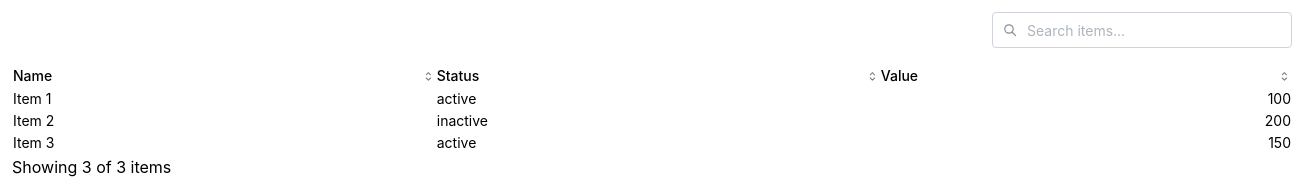
Test: AccessibleTable › implements search functionality with announcements
# Search for "Item 1"
Type "Item 1" into the field labelled "Search items..." at (1142, 30), box [992, 12, 1292, 48]
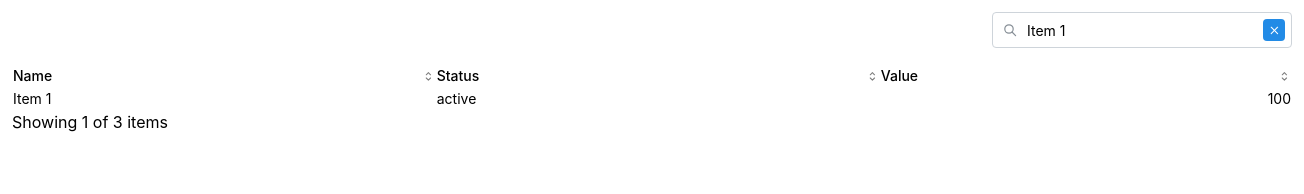
Check: the text "Item 1" is shown, box [13, 90, 52, 107]
Check: the text "Item 2" is gone
Check: the text "Item 3" is gone
# Clear search
Click the button named "Clear search" at (1274, 30), box [1263, 19, 1285, 41]
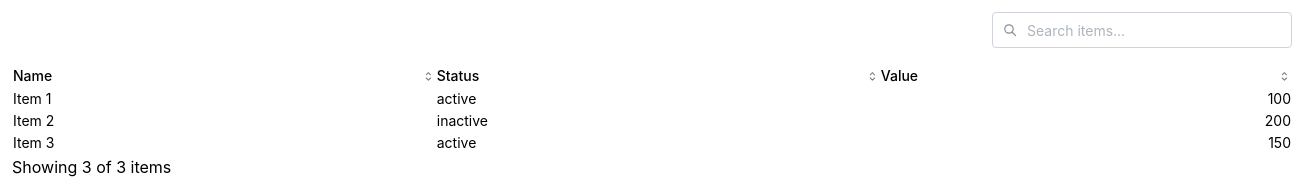
Check: the field labelled "Search items..." is empty, box [992, 12, 1292, 48]
